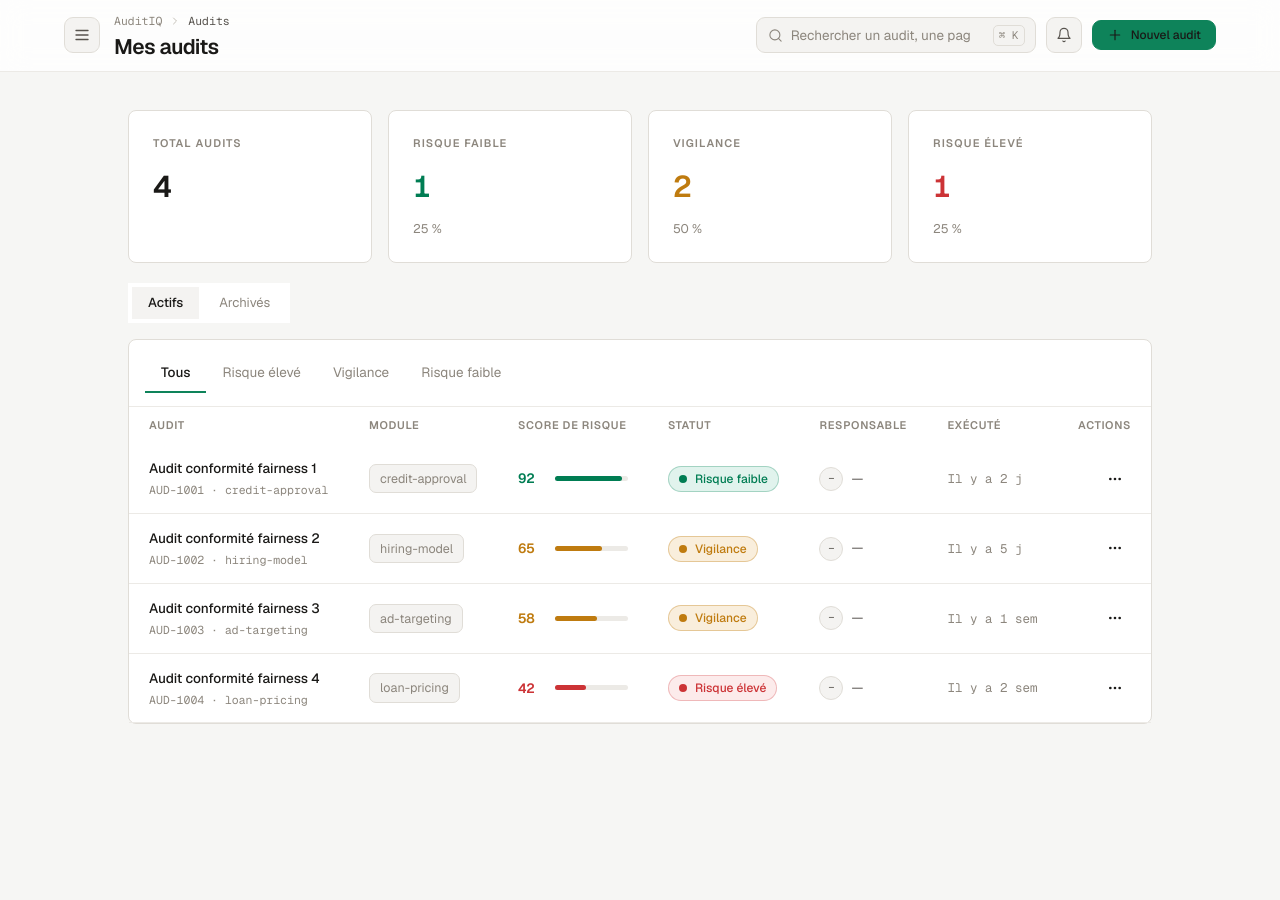
Test: AuditsListPage - R4 Refonte › filters to only "Sous vigilance" when tab is clicked
This screenshot has width=1280, height=900.
Click the tab "Vigilance": (361, 374) [317, 354, 405, 393]
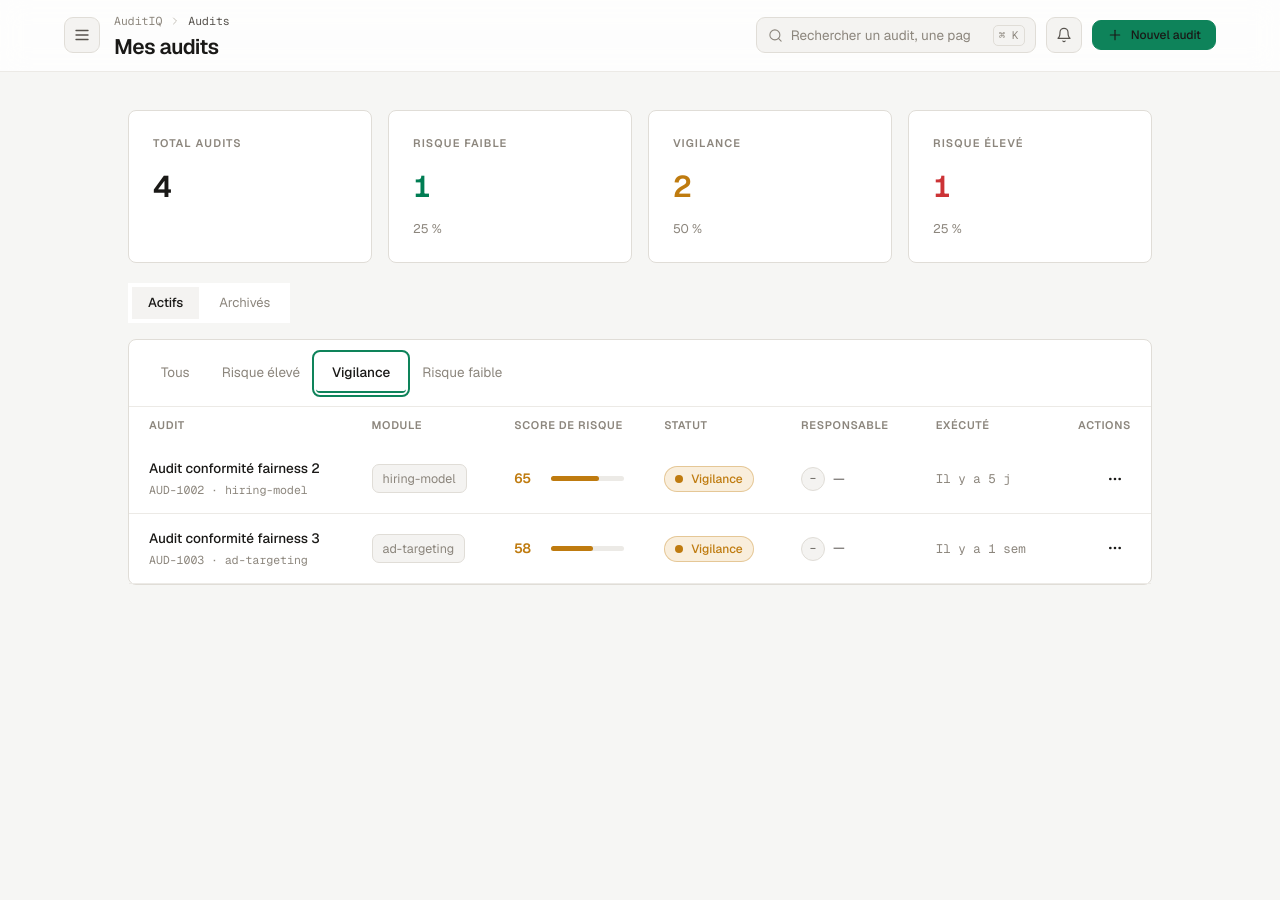
expect the text "Audit conformité fairness 2" is shown: met, box [149, 458, 332, 479]
expect the link "Audit conformité fairness 1" is gone: met
expect the link "Audit conformité fairness 4" is gone: met
